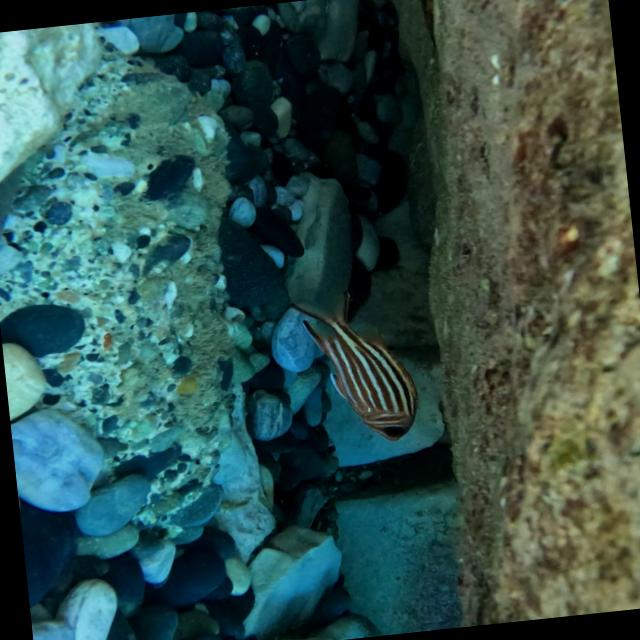Asker Baligi: (259, 270, 436, 458)
